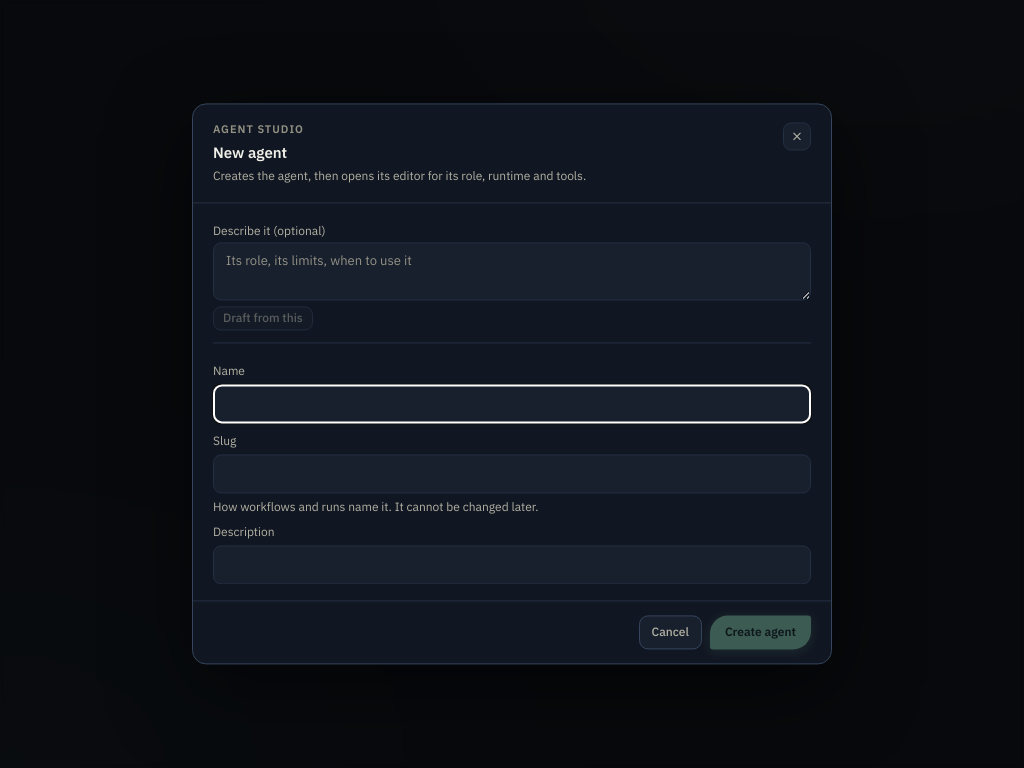
Test: NewAgentDialog › keeps the fields and says why when the server refuses
Type "planner" into the field labelled "Name" at (512, 404), box [213,385,811,424]
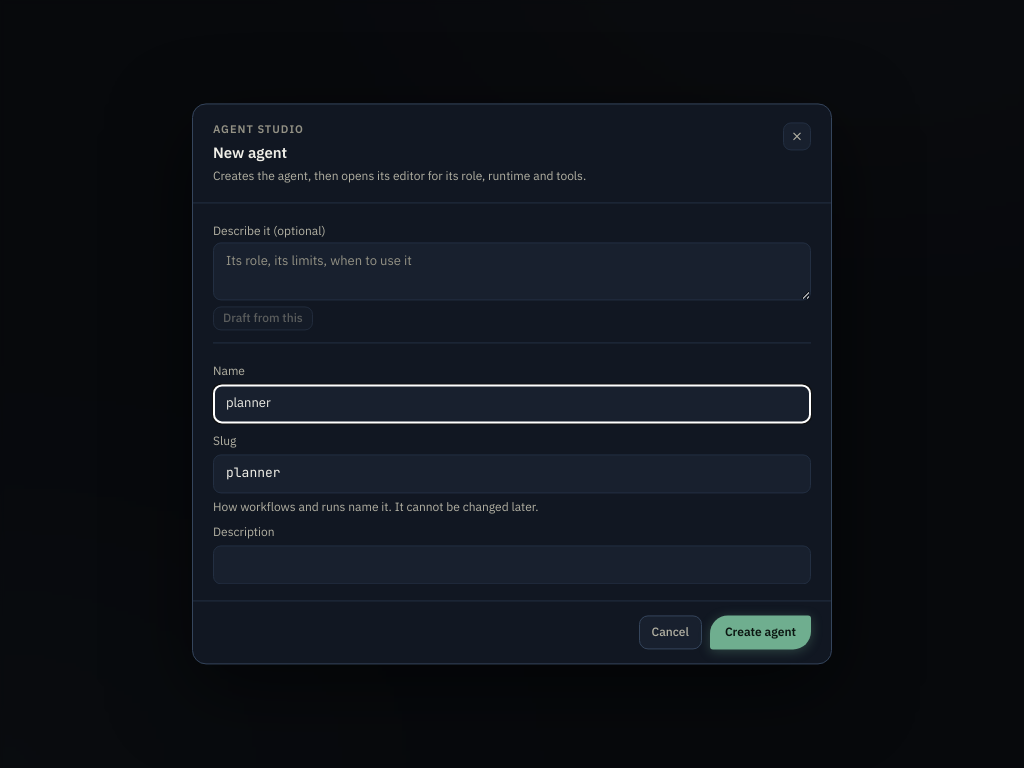
Click the button "Create agent" at (760, 632), box [710,615,811,650]
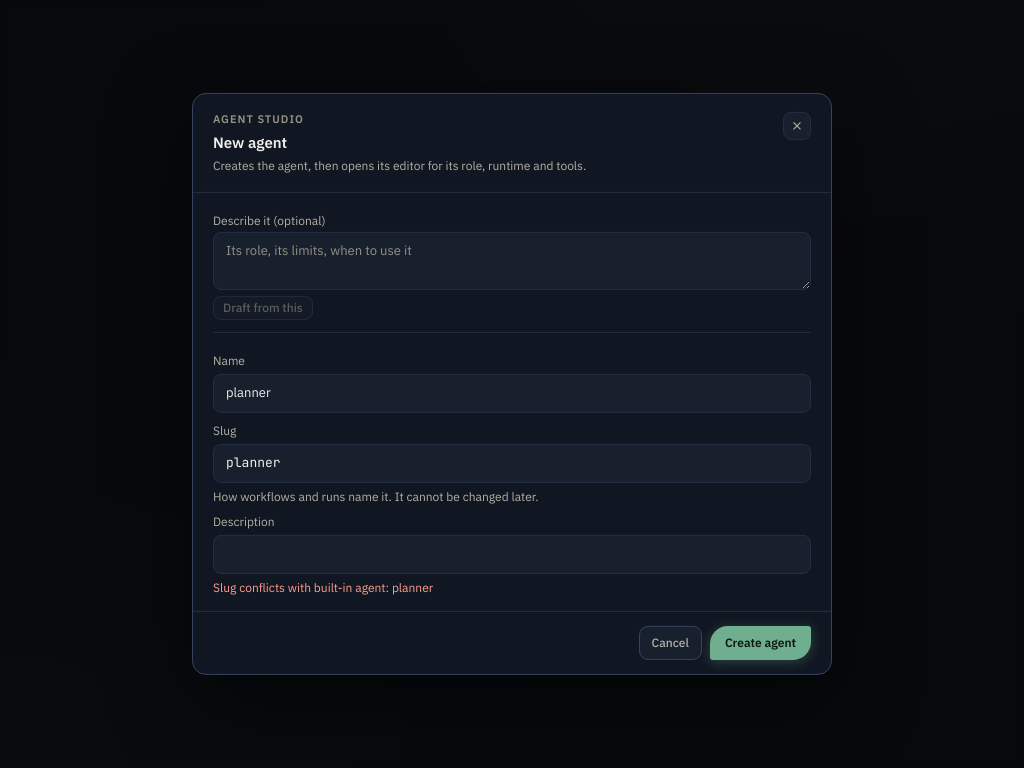
Check: the message shows "conflicts with built-in agent", box [213,580,433,595]
